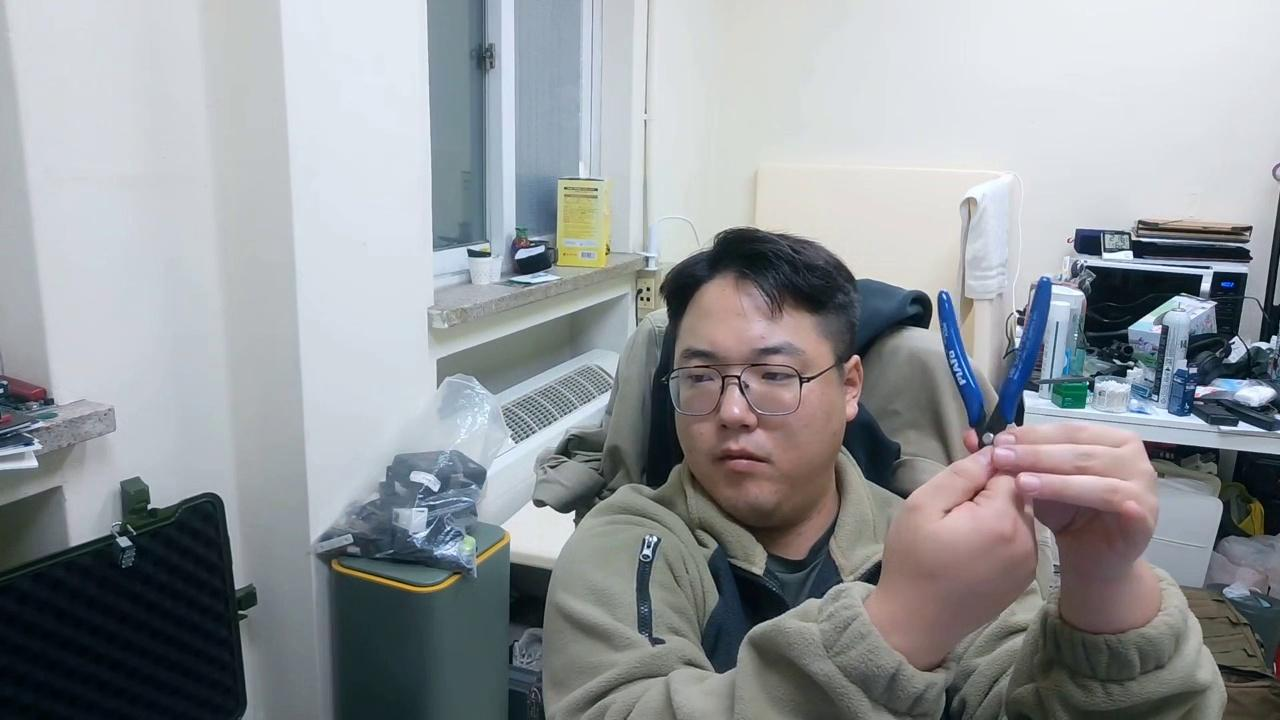blue_pliers: (935, 274, 1089, 449)
